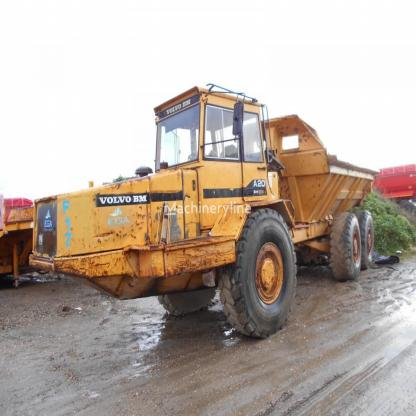dump_truck: (28, 78, 381, 338)
